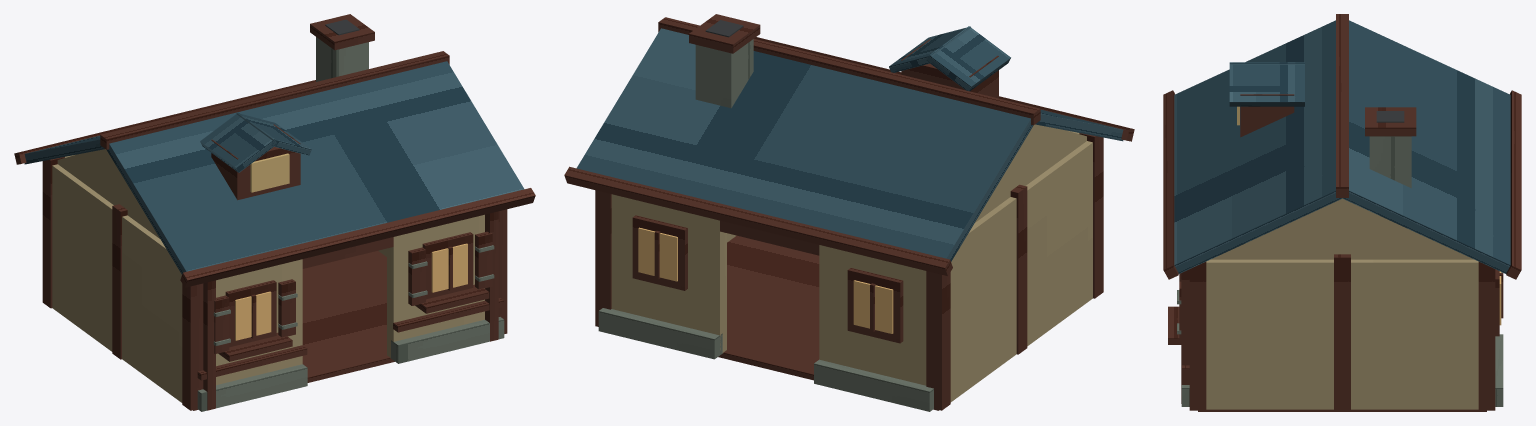
File: stone_house.glb
3 renders of one model, left to right at view 1: azimuth 30°, elevation 25°; view 2: azimuth 150°, elevation 25°; view 3: azimuth 270°, elevation 25°, orthographic. The views are drawn at different scales.
Parts seen in each view (by area): view 1: _MeshInstance3D_37, _MeshInstance3D_62, Floor, _MeshInstance3D_38, _MeshInstance3D_13, Ridge, DoorSideWall, Gable, _MeshInstance3D_21, _MeshInstance3D_32, DormerRoof, _MeshInstance3D_31 (+25 smaller); view 2: RoofSlope, _MeshInstance3D_62, Floor, _MeshInstance3D_6, _MeshInstance3D_60, EaveTrim, Ridge, Gable, TimberPost, _MeshInstance3D_27, Foundation, Chimney (+14 smaller); view 3: SideWall, RoofSlope, _MeshInstance3D_37, _MeshInstance3D_36, _MeshInstance3D_52, _MeshInstance3D_25, _MeshInstance3D_24, _MeshInstance3D_26, Ridge, EaveTrim, _MeshInstance3D_38, Chimney (+8 smaller).
Part boxes in pixels (bbox=[...]): _MeshInstance3D_37: bbox=[107, 61, 524, 274]; _MeshInstance3D_62: bbox=[52, 164, 182, 402]; Floor: bbox=[193, 251, 394, 410]; _MeshInstance3D_38: bbox=[180, 188, 535, 287]; _MeshInstance3D_13: bbox=[387, 214, 484, 358]; Ridge: bbox=[100, 51, 449, 149]; DoorSideWall: bbox=[216, 259, 302, 385]; Gable: bbox=[57, 149, 159, 238]; _MeshInstance3D_21: bbox=[182, 283, 203, 410]; _MeshInstance3D_32: bbox=[391, 317, 504, 363]; DormerRoof: bbox=[200, 112, 277, 172]; _MeshInstance3D_31: bbox=[197, 364, 307, 411]; RoofSlope: bbox=[576, 28, 1033, 261]; _MeshInstance3D_62: bbox=[950, 141, 1092, 402]; Floor: bbox=[718, 235, 939, 410]; _MeshInstance3D_6: bbox=[611, 194, 726, 352]; _MeshInstance3D_60: bbox=[819, 245, 926, 385]; EaveTrim: bbox=[564, 166, 952, 275]; Ridge: bbox=[658, 17, 1040, 125]; Gable: bbox=[975, 124, 1086, 222]; TimberPost: bbox=[926, 271, 950, 410]; _MeshInstance3D_27: bbox=[598, 308, 722, 359]; Foundation: bbox=[814, 359, 933, 411]; Chimney: bbox=[695, 39, 753, 108]; SideWall: bbox=[1206, 259, 1478, 409]; RoofSlope: bbox=[1341, 20, 1510, 273]; _MeshInstance3D_37: bbox=[1174, 20, 1342, 273]; _MeshInstance3D_36: bbox=[1211, 198, 1473, 259]; _MeshInstance3D_52: bbox=[1229, 62, 1304, 106]; _MeshInstance3D_25: bbox=[1334, 254, 1350, 410]; _MeshInstance3D_24: bbox=[1478, 262, 1495, 410]; _MeshInstance3D_26: bbox=[1189, 262, 1206, 410]; Ridge: bbox=[1336, 14, 1348, 197]; EaveTrim: bbox=[1506, 90, 1521, 279]; _MeshInstance3D_38: bbox=[1163, 90, 1178, 279]; Chimney: bbox=[1369, 136, 1411, 188].
Bounding box in the file's own units: 6.9 × 4.86 × 5.95.
Materials: 10 (4 with a texture image).
